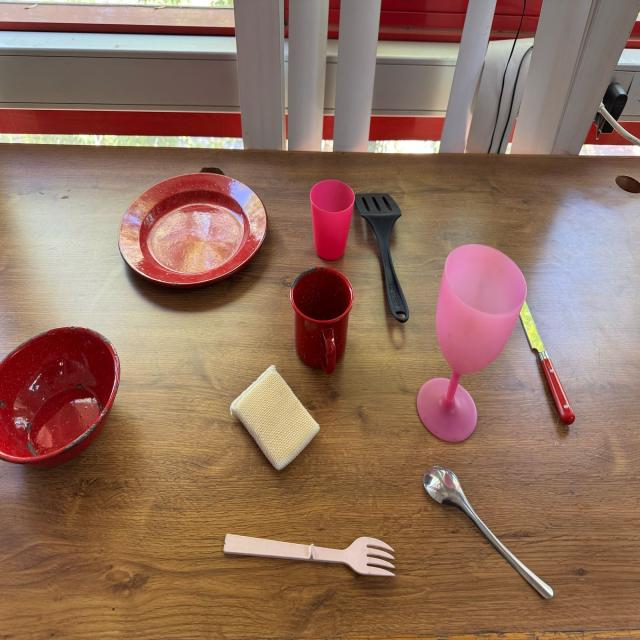cup: (289, 267, 355, 372)
fork: (217, 531, 400, 576)
glass: (308, 179, 351, 261)
knife: (516, 297, 574, 426)
plate: (118, 172, 268, 288)
spatula: (354, 193, 410, 327)
sponge: (232, 362, 324, 466)
spoon: (420, 462, 559, 600)
tazon: (0, 326, 122, 465)
wineglass: (413, 243, 527, 447)
